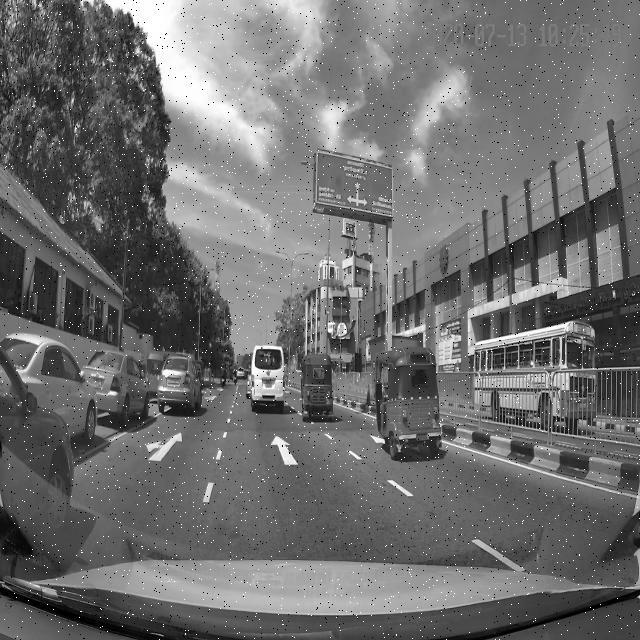forward: (205, 425, 397, 480)
